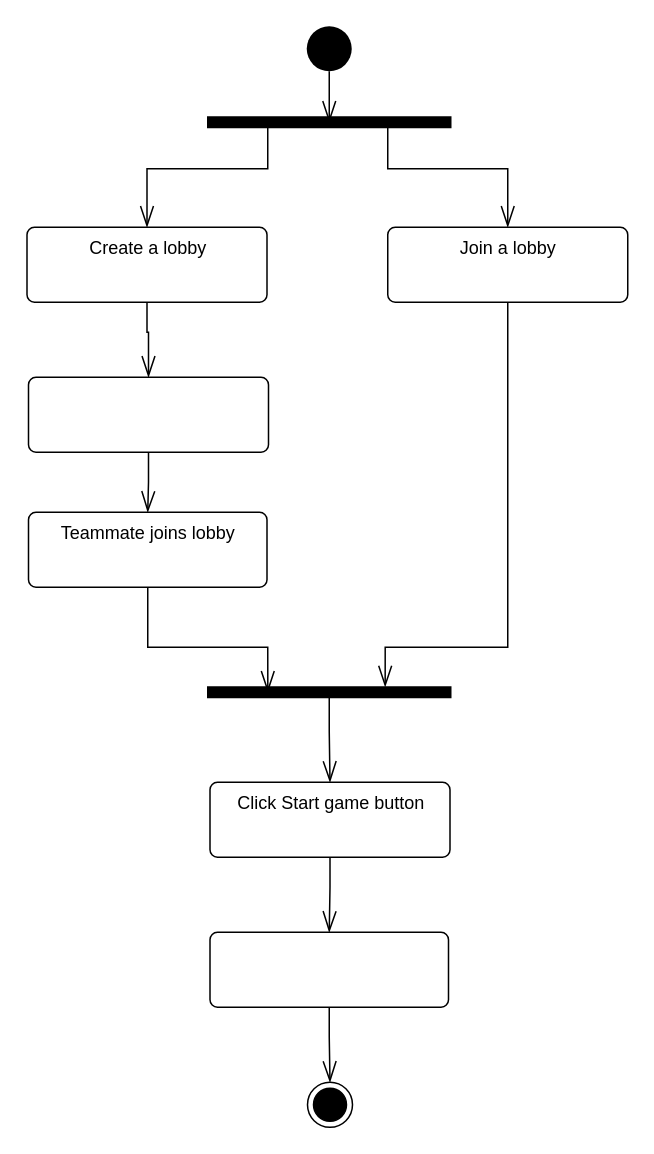
Some shapes in this 654 by 1154 pixel diagram are drawn without their labels. Each missing label, with the centre of its shape:
"Display game scene" belongs at pixel 328 969.
"Wait for teammate to join" belongs at pixel 147 414.
